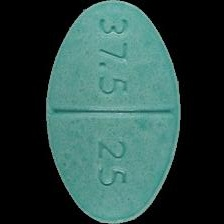68788-9494: (0, 0, 224, 224)
